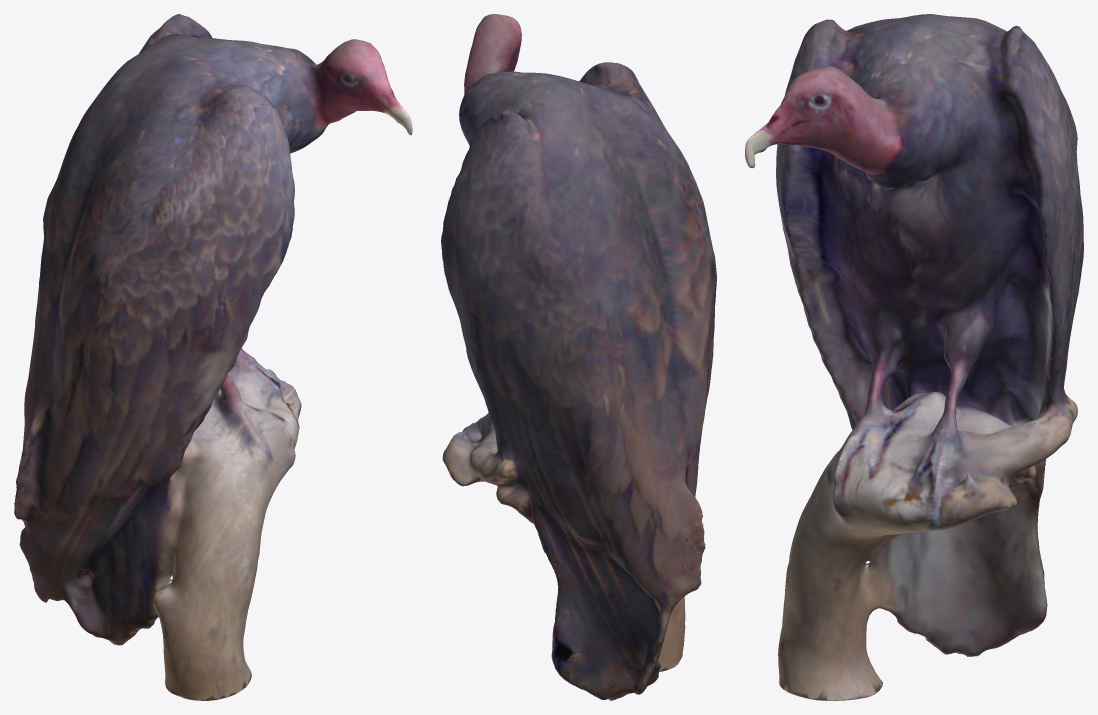
File: vulture.glb
3 views of the same model, side by side, from view 1: azimuth 30°, elevation 25°; view 2: azimuth 150°, elevation 25°; view 3: azimuth 270°, elevation 25° (orthographic). The views are drawn at different scales.
Parts seen in each view (by area): view 1: material_0-material; view 2: material_0-material; view 3: material_0-material.
Boxes of the visible parts, x1=… form: material_0-material: x1=14, y1=14, x2=412, y2=700; material_0-material: x1=441, y1=14, x2=716, y2=700; material_0-material: x1=745, y1=14, x2=1083, y2=700.
Size of the model in its own units: 0.2677 by 0.5222 by 0.2285.
Materials: 1 (1 with a texture image).
